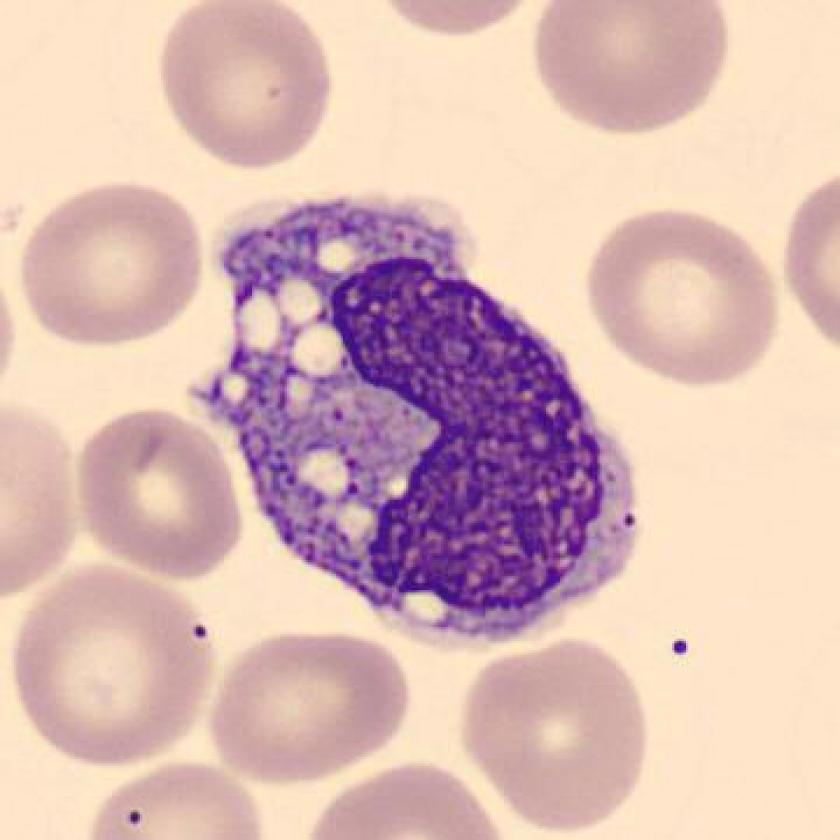monocyte: (176, 181, 664, 663)
